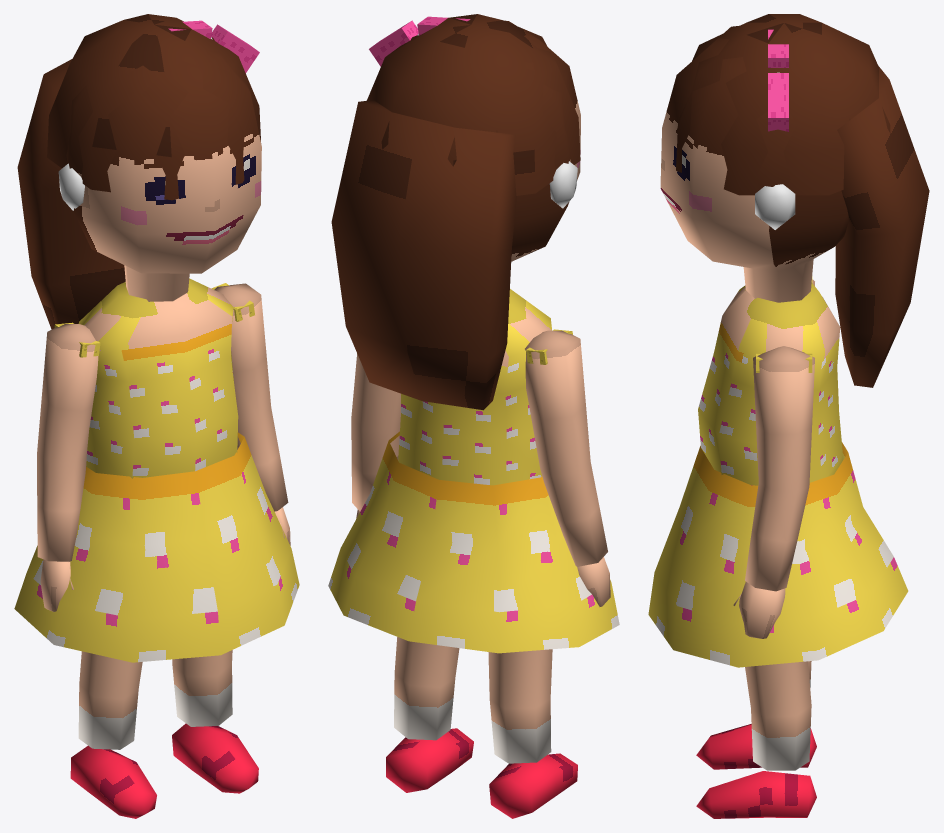
Rendered from Kid Dress.fbx.
3 renders of one model, left to right at view 1: azimuth 30°, elevation 25°; view 2: azimuth 150°, elevation 25°; view 3: azimuth 270°, elevation 25°, orthographic. The views are drawn at different scales.
Parts seen in each view (by area): view 1: Kid Dress skirt, Kid Dress head, Kid Dress torso, Kid Dress hair cap, Kid Dress long hair, Kid Dress arm R.001, Kid Dress arm L.001, Kid Dress leg R.001, Kid Dress shoe L, Kid Dress shoe R, Kid Dress leg L.001, Kid Dress hand R (+2 smaller); view 2: Kid Dress long hair, Kid Dress skirt, Kid Dress hair cap, Kid Dress torso, Kid Dress arm R.001, Kid Dress leg R.001, Kid Dress leg L.001, Kid Dress head, Kid Dress arm L.001, Kid Dress shoe R, Kid Dress shoe L, Kid Dress hand R (+2 smaller); view 3: Kid Dress skirt, Kid Dress head, Kid Dress hair cap, Kid Dress long hair, Kid Dress torso, Kid Dress arm L.001, Kid Dress leg L.001, Kid Dress shoe L, Kid Dress shoe R, Kid Dress hand L, Kid Dress ear 1, Kid Dress bow loop 1 (+1 smaller).
Part boxes in pixels (x1,y1,x2,y2): Kid Dress skirt: [14, 432, 299, 662]; Kid Dress head: [61, 37, 261, 301]; Kid Dress torso: [78, 278, 238, 478]; Kid Dress hair cap: [47, 14, 260, 200]; Kid Dress long hair: [17, 59, 125, 329]; Kid Dress arm R.001: [37, 324, 98, 561]; Kid Dress arm L.001: [214, 283, 288, 511]; Kid Dress leg R.001: [78, 651, 142, 749]; Kid Dress shoe L: [172, 723, 258, 793]; Kid Dress shoe R: [70, 745, 156, 818]; Kid Dress leg L.001: [172, 650, 232, 726]; Kid Dress hand R: [40, 559, 70, 611]; Kid Dress long hair: [331, 100, 516, 410]; Kid Dress skirt: [328, 431, 619, 653]; Kid Dress hair cap: [367, 14, 580, 195]; Kid Dress torso: [398, 289, 551, 485]; Kid Dress arm R.001: [525, 330, 607, 566]; Kid Dress leg R.001: [488, 649, 552, 763]; Kid Dress leg L.001: [394, 456, 459, 740]; Kid Dress head: [378, 20, 580, 261]; Kid Dress arm L.001: [351, 353, 400, 511]; Kid Dress shoe R: [489, 753, 577, 818]; Kid Dress shoe L: [386, 728, 473, 792]; Kid Dress hand R: [577, 557, 610, 606]; Kid Dress skirt: [648, 442, 908, 667]; Kid Dress head: [660, 25, 850, 302]; Kid Dress hair cap: [676, 14, 890, 195]; Kid Dress long hair: [835, 66, 929, 387]; Kid Dress torso: [698, 282, 842, 485]; Kid Dress arm L.001: [745, 346, 814, 591]; Kid Dress leg L.001: [745, 661, 811, 770]; Kid Dress shoe L: [696, 771, 816, 818]; Kid Dress shoe R: [696, 724, 816, 769]; Kid Dress hand L: [739, 582, 785, 638]; Kid Dress ear 1: [755, 184, 795, 229]; Kid Dress bow loop 1: [768, 73, 788, 131].
Bounding box in the file's own units: 0.409 × 1.2 × 0.398.
13 materials, 11 textured.
